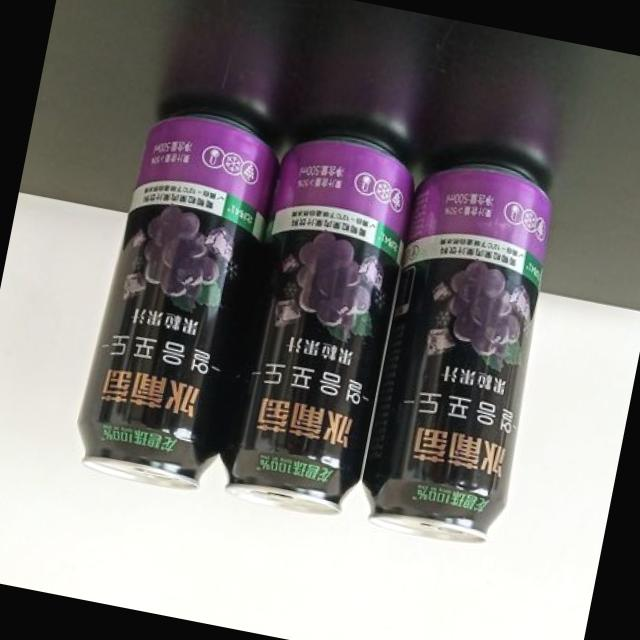can: (348, 147, 576, 557), (212, 120, 428, 527), (65, 96, 282, 500)
